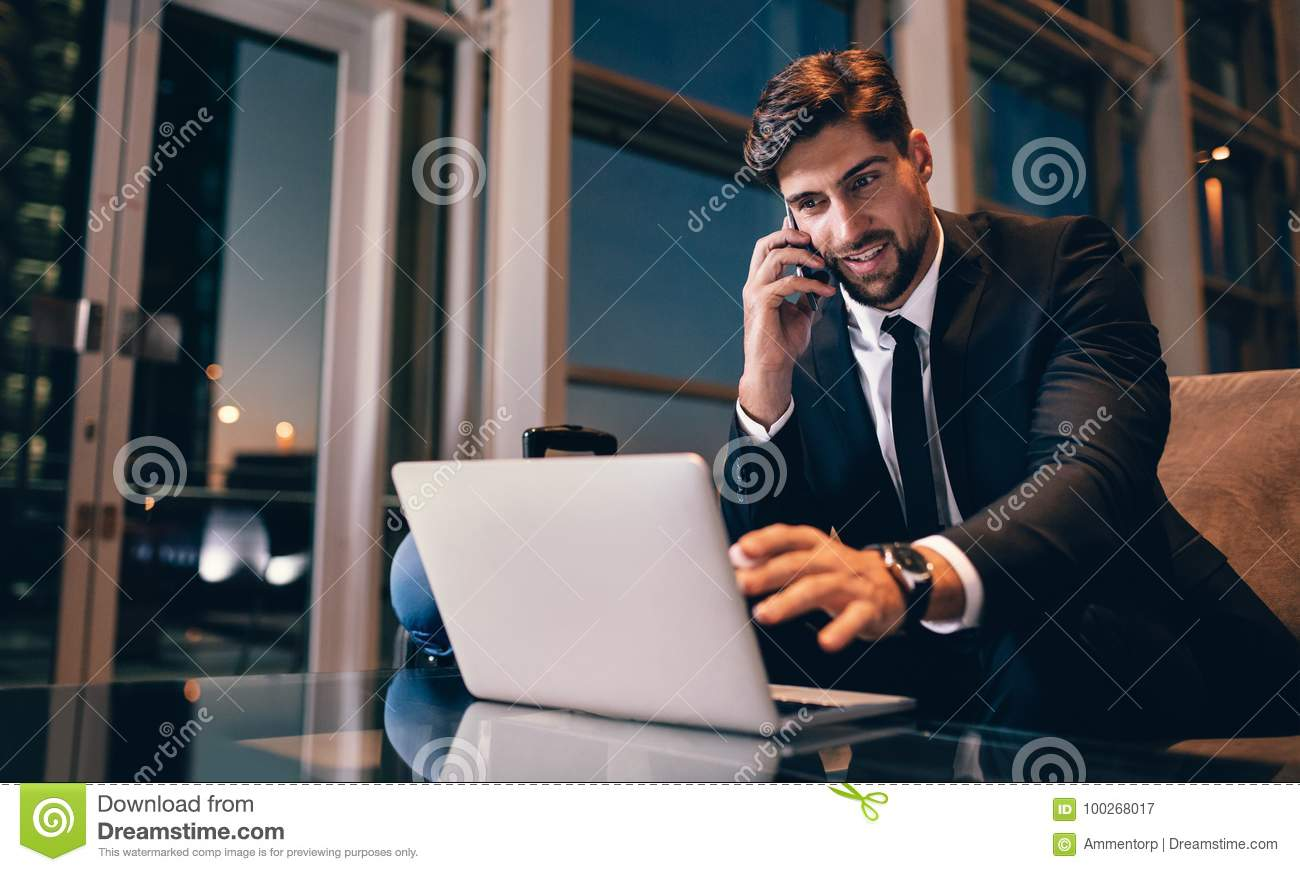phone: (785, 194, 813, 318)
talk: (735, 149, 907, 395)
